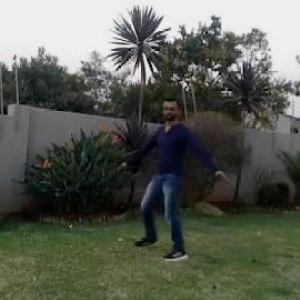land: (113, 79, 238, 283)
